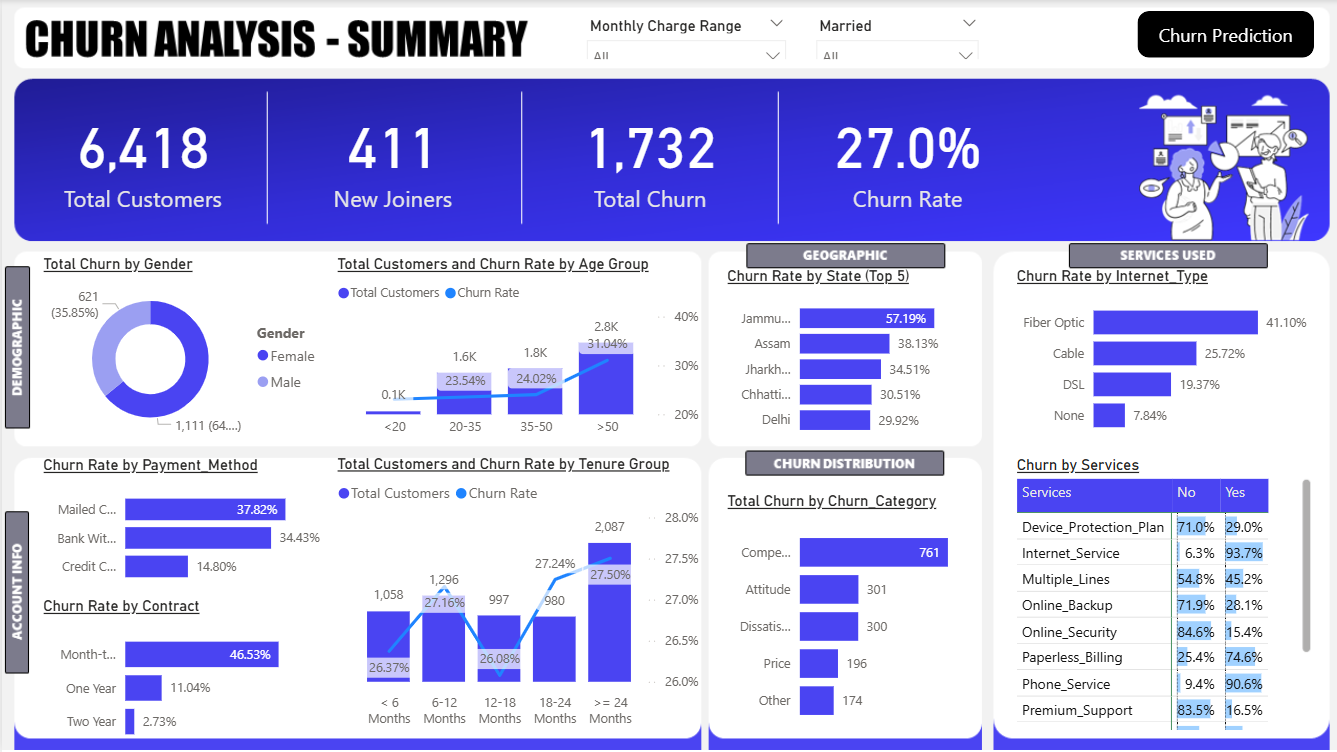

What the dashboard file says about the page in this screenshot:
{"tool":"powerbi","page":{"name":"Summary","canvas":[1280,720],"ordinal":0},"visuals":[{"type":"card","fields":{"Values":["tbl_Measures.Total Customers"]},"box":[22.3,84.3,222.7,130.4],"z":0},{"type":"card","fields":{"Values":["tbl_Measures.Churn Rate"]},"box":[755.5,84.3,219.5,130.4],"z":1000},{"type":"card","fields":{"Values":["tbl_Measures.Total Churn"]},"box":[505.8,84.3,225.9,130.4],"z":2000},{"type":"card","fields":{"Values":["tbl_Measures.New Joiners"]},"box":[260.9,84.3,224.3,130.4],"z":3000},{"type":"donutChart","fields":{"Category":["prod_Churn.Gender"],"Y":["tbl_Measures.Total Churn"]},"box":[35,245,279.9,181.3],"z":4000},{"type":"lineStackedColumnComboChart","fields":{"Category":["mapping_AgeGrp.Age Group"],"Y":["tbl_Measures.Total Customers"],"Y2":["tbl_Measures.Churn Rate"]},"box":[314.9,245,354.7,181.3],"z":5000},{"type":"clusteredBarChart","fields":{"Category":["prod_Churn.Payment_Method"],"Y":["tbl_Measures.Churn Rate"]},"box":[35,437.4,279.9,132],"z":6000},{"type":"clusteredBarChart","fields":{"Category":["prod_Churn.Contract"],"Y":["tbl_Measures.Churn Rate"]},"box":[35,571,279.9,149.5],"z":7000},{"type":"lineStackedColumnComboChart","fields":{"Category":["mapping_TenureGrp.Tenure Group"],"Y":["tbl_Measures.Total Customers"],"Y2":["tbl_Measures.Churn Rate"]},"box":[314.9,435.8,354.7,267.2],"z":8000},{"type":"clusteredBarChart","title":"Churn Rate by State (Top 5)","fields":{"Category":["prod_Churn.State"],"Y":["tbl_Measures.Churn Rate"]},"box":[687.1,256.1,245,170.2],"z":9000},{"type":"clusteredBarChart","fields":{"Category":["prod_Churn.Churn_Category"],"Y":["tbl_Measures.Total Churn"]},"box":[687.1,470.8,245,232.2],"z":10000},{"type":"pivotTable","title":"Churn by Services","fields":{"Rows":["prod_Services.Services"],"Columns":["prod_Services.Status"],"Values":["Sum(prod_Services.Churn Status)"]},"box":[963.9,437.4,291.1,265.6],"z":11000},{"type":"slicer","fields":{"Values":["prod_Churn.Monthly Charge Status"]},"box":[548.8,11.1,210,46.1],"z":12000},{"type":"slicer","fields":{"Values":["prod_Churn.Married"]},"box":[768.3,11.1,175,46.1],"z":13000},{"type":"clusteredBarChart","fields":{"Category":["prod_Churn.Internet_Type"],"Y":["tbl_Measures.Churn Rate"]},"box":[964,256,291,170],"z":14000},{"type":"shape","box":[1084.8,11.1,168.6,44.5],"z":14001}]}

Visuals, with their boxes in screenshot pixels (x1, y1, x2, y2), scaled from the page's 1280x720 canvas onto the 1337x752 screenshot:
card - tbl_Measures.Total Customers: (23, 88, 256, 224)
card - tbl_Measures.Churn Rate: (789, 88, 1018, 224)
card - tbl_Measures.Total Churn: (528, 88, 764, 224)
card - tbl_Measures.New Joiners: (273, 88, 507, 224)
donutChart - prod_Churn.Gender x tbl_Measures.Total Churn: (37, 256, 329, 445)
lineStackedColumnComboChart - mapping_AgeGrp.Age Group x tbl_Measures.Total Customers: (329, 256, 699, 445)
clusteredBarChart - prod_Churn.Payment_Method x tbl_Measures.Churn Rate: (37, 457, 329, 595)
clusteredBarChart - prod_Churn.Contract x tbl_Measures.Churn Rate: (37, 596, 329, 751)
lineStackedColumnComboChart - mapping_TenureGrp.Tenure Group x tbl_Measures.Total Customers: (329, 455, 699, 734)
"Churn Rate by State (Top 5)" clusteredBarChart: (718, 267, 974, 445)
clusteredBarChart - prod_Churn.Churn_Category x tbl_Measures.Total Churn: (718, 492, 974, 734)
"Churn by Services" pivotTable: (1007, 457, 1311, 734)
slicer - prod_Churn.Monthly Charge Status: (573, 12, 793, 60)
slicer - prod_Churn.Married: (803, 12, 985, 60)
clusteredBarChart - prod_Churn.Internet_Type x tbl_Measures.Churn Rate: (1007, 267, 1311, 445)
shape: (1133, 12, 1309, 58)
